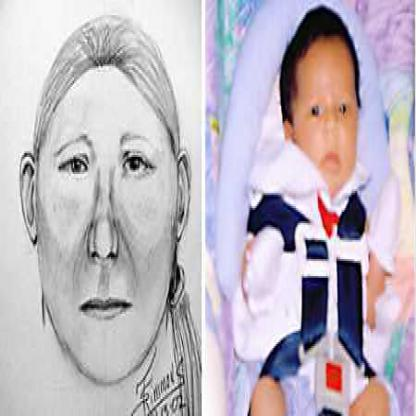face: (36, 18, 180, 387), (293, 12, 365, 199)
